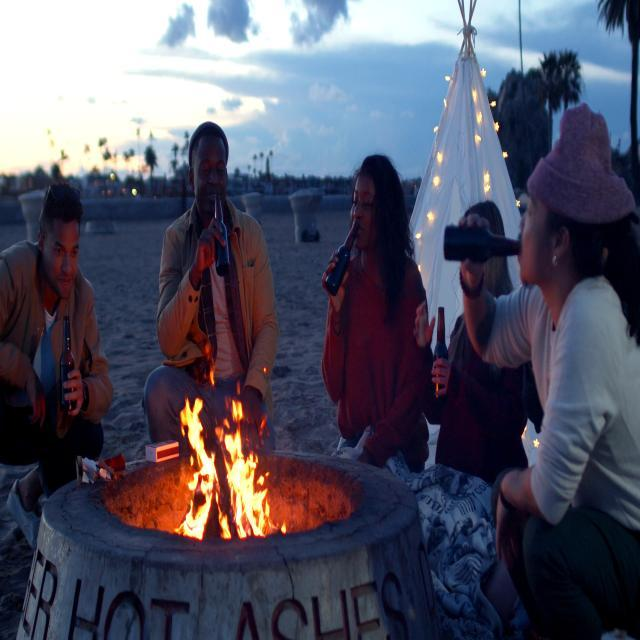Fire: (175, 388, 272, 538)
